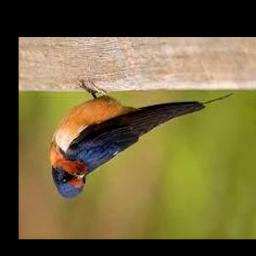Swallow: (48, 79, 233, 198)
